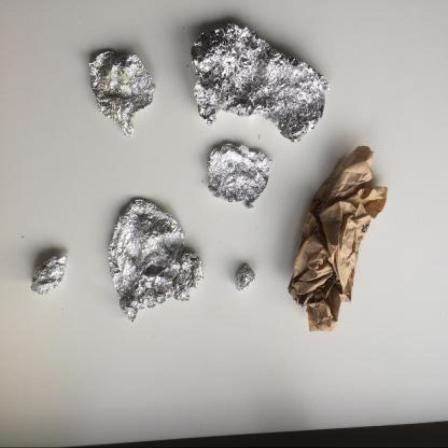Aluminium foil: (192, 25, 332, 143), (109, 200, 205, 326), (90, 53, 157, 140), (208, 145, 274, 211), (31, 256, 69, 296), (236, 267, 257, 293)
Other litter: (290, 148, 390, 334)
